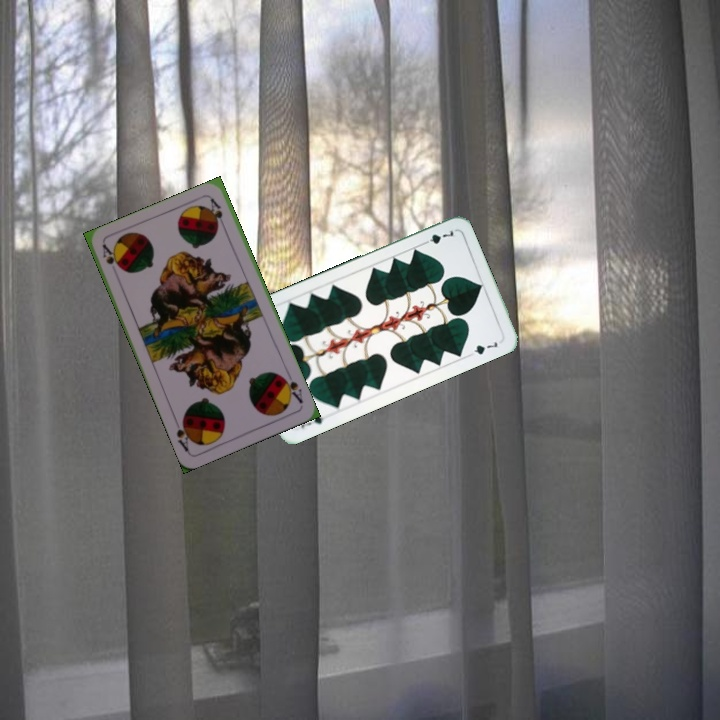G7: (418, 226, 456, 248), (296, 411, 326, 431)
SA: (277, 371, 306, 406), (98, 240, 123, 272)
